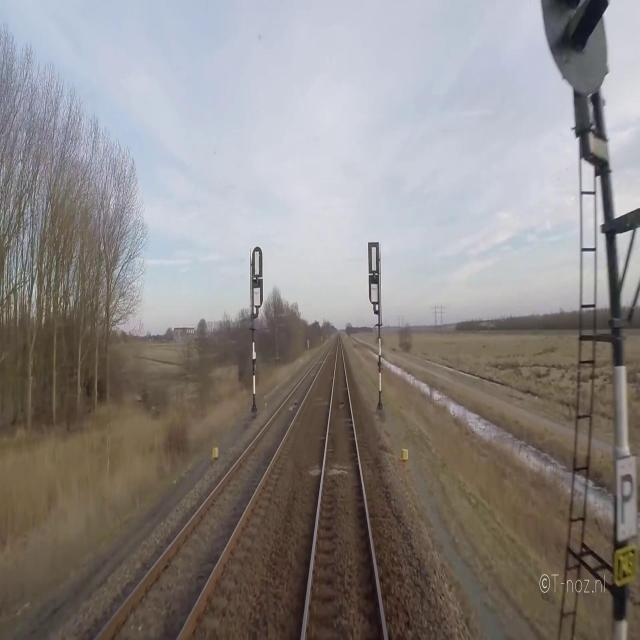rail-track: (100, 345, 329, 639), (305, 346, 383, 639)
